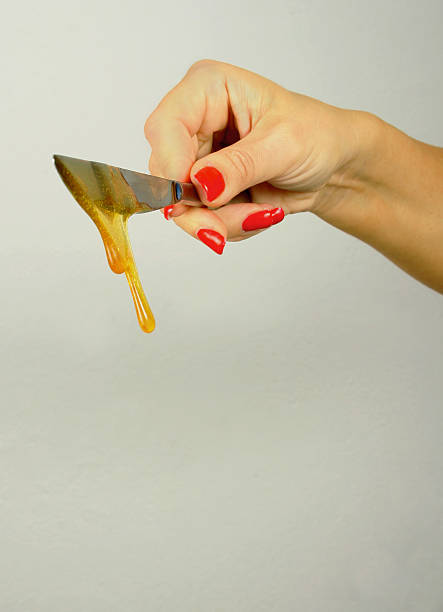knife: (48, 152, 211, 219)
